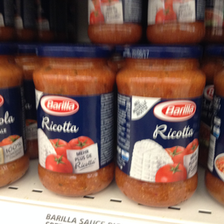tomato_sauce: (115, 46, 206, 208), (32, 43, 116, 197)
